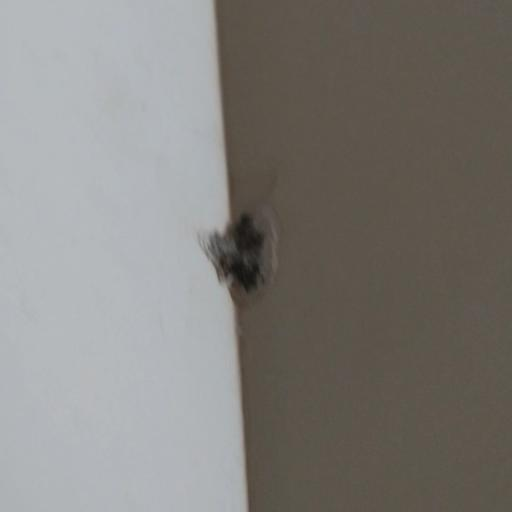spalling: (162, 183, 306, 321)
